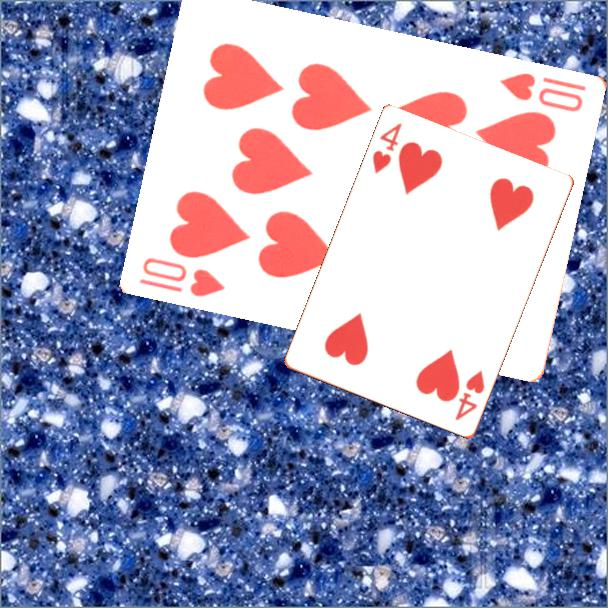h04: (369, 120, 405, 178), (452, 367, 488, 424)
h10: (136, 253, 228, 300), (497, 69, 590, 115)
